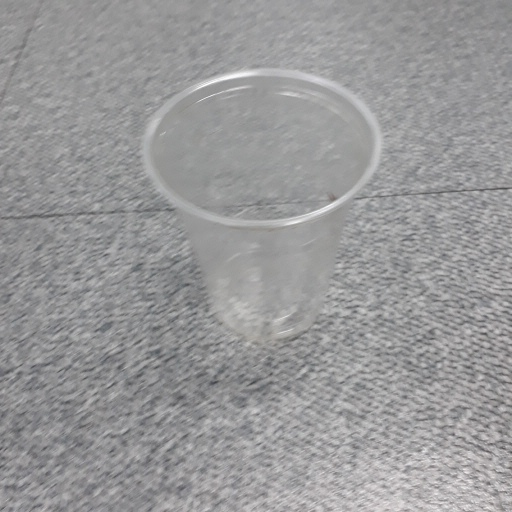Plastic_2: (139, 67, 383, 336)
